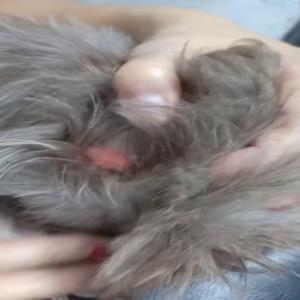skin_lesions: (81, 142, 142, 173)
